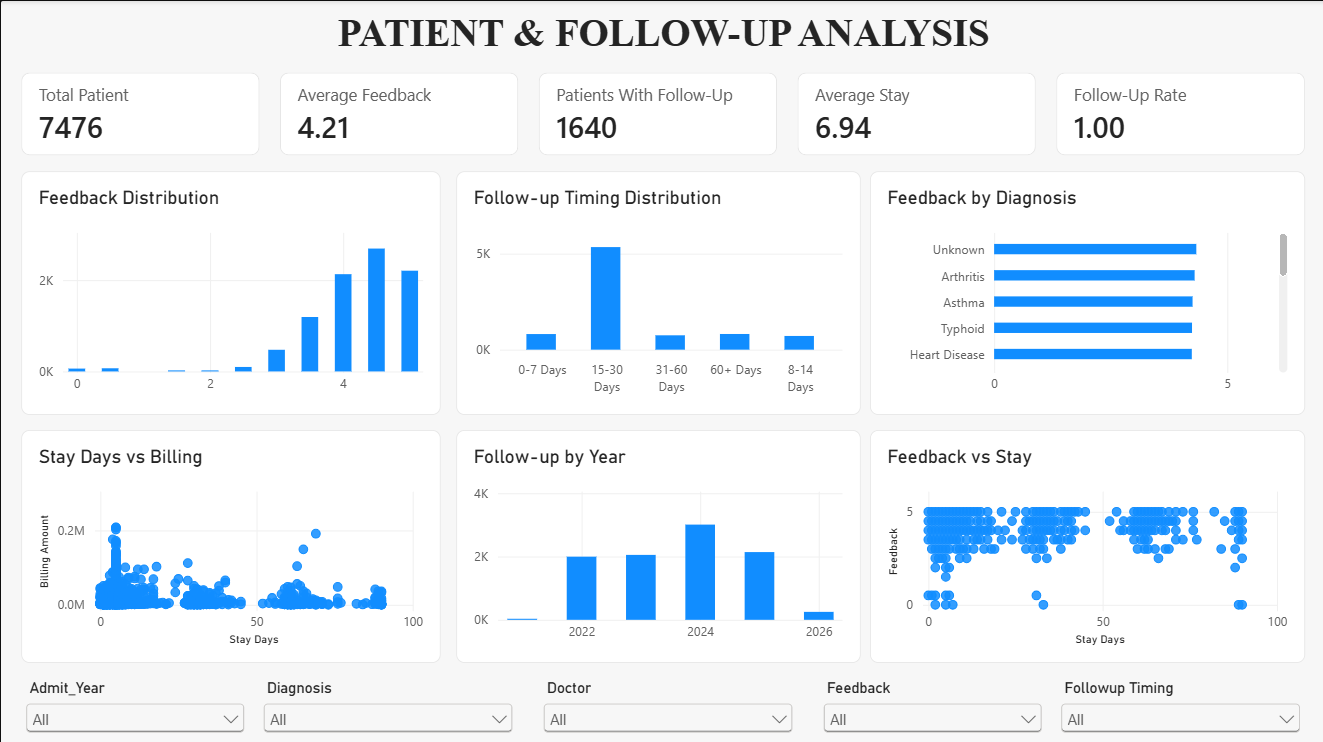

The page's visual inventory and layout, read from the dashboard file:
{"tool":"powerbi","page":{"name":"Patient & Follow-Up Analysis","canvas":[1280,720],"ordinal":3},"visuals":[{"type":"textbox","box":[20,10,1240,45],"z":0},{"type":"cardVisual","fields":{"Data":["Count(Healthcare_Cleaned.Patient_ID)"]},"box":[20,70,230,80],"z":1000},{"type":"cardVisual","fields":{"Data":["Avg(Healthcare_Cleaned.Feedback)"]},"box":[270,70,230,80],"z":2000},{"type":"cardVisual","fields":{"Data":["Count(Healthcare_Cleaned.Followup Date)"]},"box":[520,70,230,80],"z":3000},{"type":"cardVisual","fields":{"Data":["Avg(Healthcare_Cleaned.Stay_Days)"]},"box":[770,70,230,80],"z":3001},{"type":"cardVisual","fields":{"Data":["Healthcare_Cleaned.Followup Rate"]},"box":[1020,70,240,80],"z":3002},{"type":"clusteredColumnChart","title":"Feedback Distribution","fields":{"Category":["Healthcare_Cleaned.Feedback"],"Y":["Count(Healthcare_Cleaned.Patient_ID)"]},"box":[20,165,405,235],"z":3003},{"type":"clusteredColumnChart","title":"Follow-up Timing Distribution","fields":{"Category":["Healthcare_Cleaned.Followup Timing"],"Y":["Count(Healthcare_Cleaned.Patient_ID)"]},"box":[440,165,390,235],"z":3004},{"type":"clusteredBarChart","title":"Feedback by Diagnosis","fields":{"Category":["Healthcare_Cleaned.Diagnosis"],"Y":["Avg(Healthcare_Cleaned.Feedback)"]},"box":[840,165,420,235],"z":3005},{"type":"scatterChart","title":"Stay Days vs Billing","fields":{"X":["Healthcare_Cleaned.Stay_Days"],"Y":["Healthcare_Cleaned.Billing Amount"]},"box":[20,415,405,225],"z":3006},{"type":"clusteredColumnChart","title":"Follow-up by Year","fields":{"Category":["Healthcare_Cleaned.Admit_Year"],"Y":["CountNonNull(Healthcare_Cleaned.Followup Status)"]},"box":[440,415,390,225],"z":3007},{"type":"scatterChart","title":"Feedback vs Stay","fields":{"X":["Healthcare_Cleaned.Stay_Days"],"Y":["Healthcare_Cleaned.Feedback"]},"box":[840,415,420,225],"z":3008},{"type":"slicer","fields":{"Values":["Healthcare_Cleaned.Admit_Year"]},"box":[20,655,220,60],"z":3009},{"type":"slicer","fields":{"Values":["Healthcare_Cleaned.Diagnosis"]},"box":[250,655,250,60],"z":3010},{"type":"slicer","fields":{"Values":["Healthcare_Cleaned.Doctor"]},"box":[520,655,250,60],"z":3011},{"type":"slicer","fields":{"Values":["Healthcare_Cleaned.Feedback"]},"box":[790,655,220,60],"z":3012},{"type":"slicer","fields":{"Values":["Healthcare_Cleaned.Followup Timing"]},"box":[1020,655,240,60],"z":3013}]}

Visuals, with their boxes in screenshot pixels (x1, y1, x2, y2), scaled from the page's 1280x720 canvas onto the 1323x742 screenshot:
textbox: [left=21, top=10, right=1302, bottom=57]
cardVisual - Count(Healthcare_Cleaned.Patient_ID): [left=21, top=72, right=258, bottom=155]
cardVisual - Avg(Healthcare_Cleaned.Feedback): [left=279, top=72, right=517, bottom=155]
cardVisual - Count(Healthcare_Cleaned.Followup Date): [left=537, top=72, right=775, bottom=155]
cardVisual - Avg(Healthcare_Cleaned.Stay_Days): [left=796, top=72, right=1034, bottom=155]
cardVisual - Healthcare_Cleaned.Followup Rate: [left=1054, top=72, right=1302, bottom=155]
"Feedback Distribution" clusteredColumnChart: [left=21, top=170, right=439, bottom=412]
"Follow-up Timing Distribution" clusteredColumnChart: [left=455, top=170, right=858, bottom=412]
"Feedback by Diagnosis" clusteredBarChart: [left=868, top=170, right=1302, bottom=412]
"Stay Days vs Billing" scatterChart: [left=21, top=428, right=439, bottom=660]
"Follow-up by Year" clusteredColumnChart: [left=455, top=428, right=858, bottom=660]
"Feedback vs Stay" scatterChart: [left=868, top=428, right=1302, bottom=660]
slicer - Healthcare_Cleaned.Admit_Year: [left=21, top=675, right=248, bottom=737]
slicer - Healthcare_Cleaned.Diagnosis: [left=258, top=675, right=517, bottom=737]
slicer - Healthcare_Cleaned.Doctor: [left=537, top=675, right=796, bottom=737]
slicer - Healthcare_Cleaned.Feedback: [left=817, top=675, right=1044, bottom=737]
slicer - Healthcare_Cleaned.Followup Timing: [left=1054, top=675, right=1302, bottom=737]
